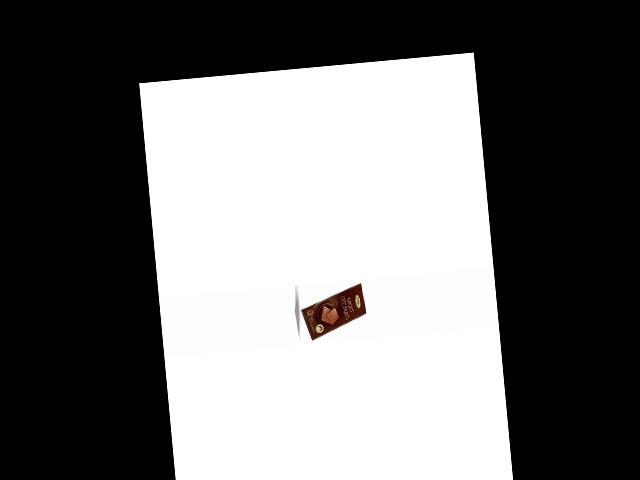chocolate: (296, 282, 369, 343)
